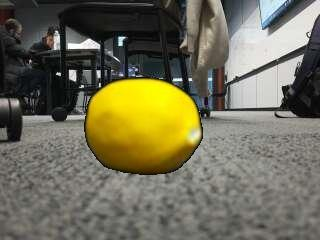lemon: (85, 79, 202, 175)
